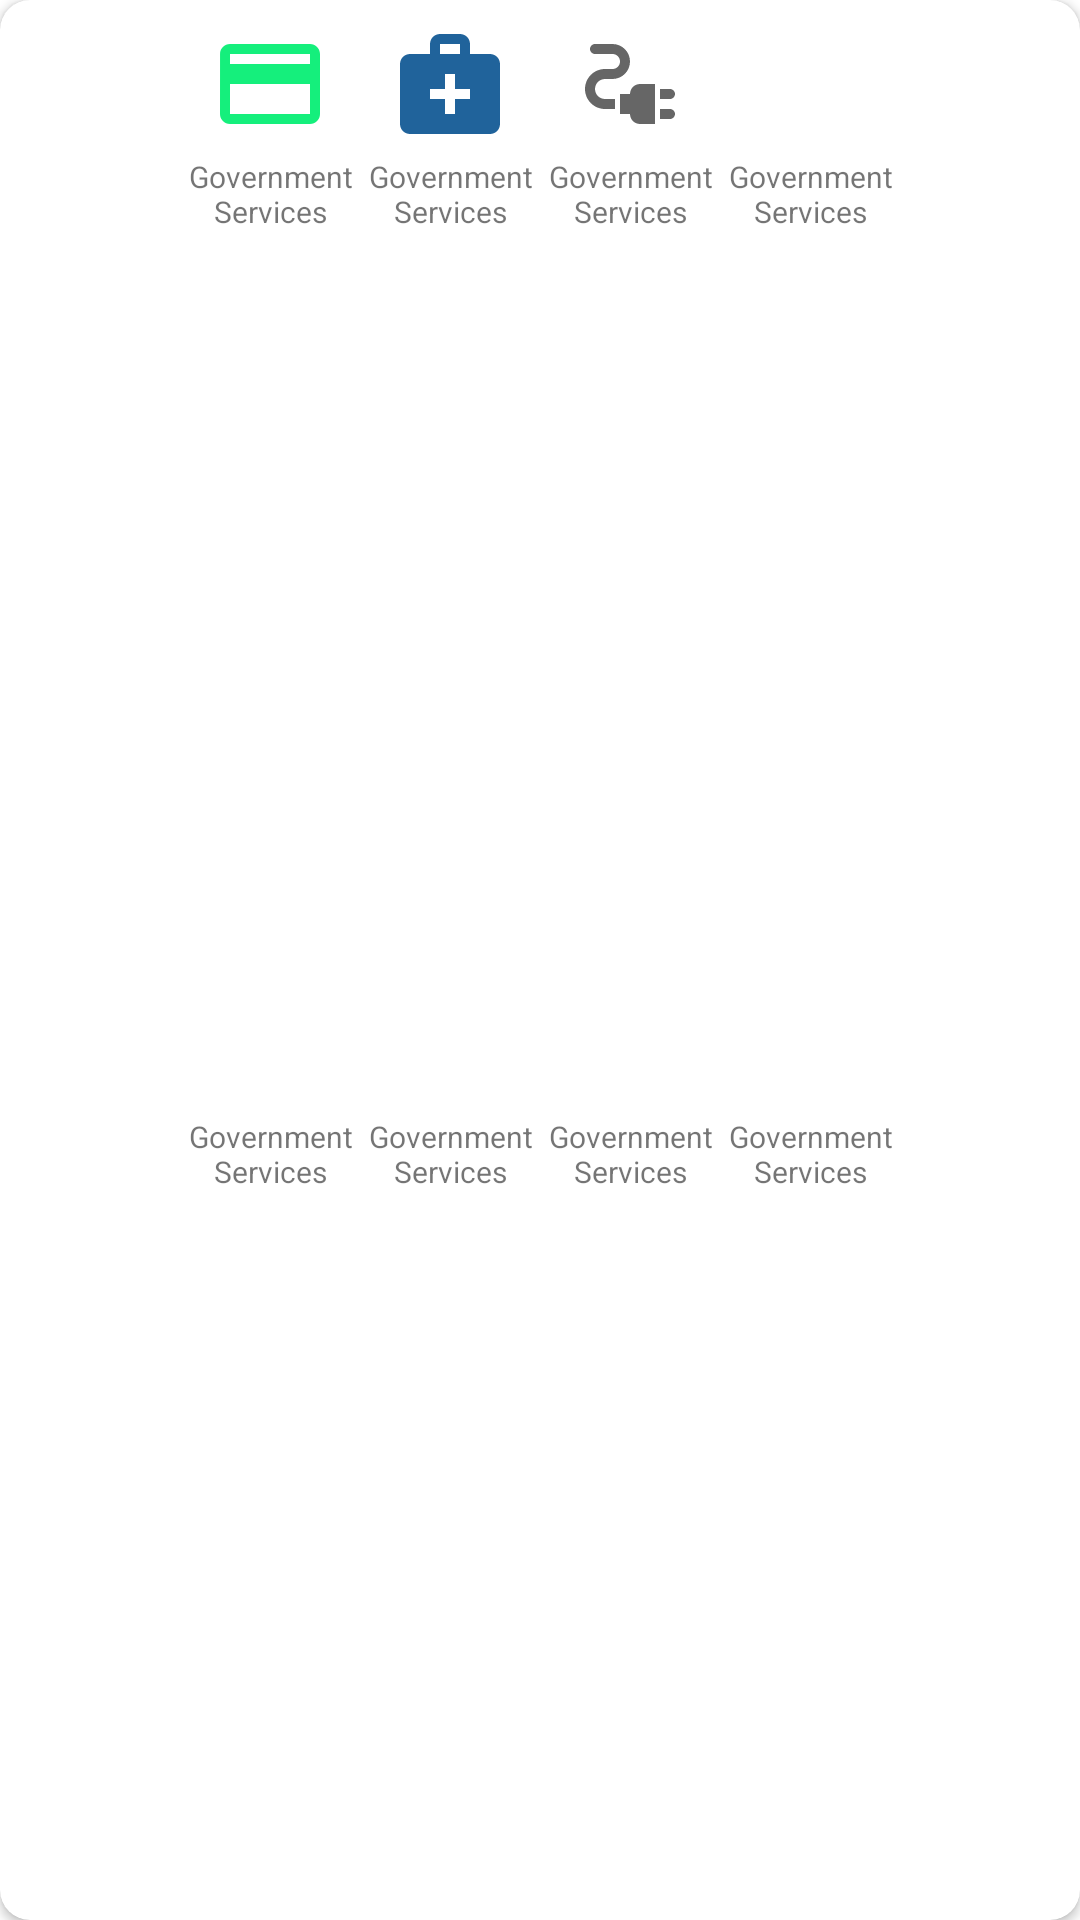

Screen size 1080px×1920px. Icon name, then its box in pixels as [x1,y1,x2,y2]:
electrical services: [585,44,675,124]
medical services: [400,34,500,134]
payment: [220,44,320,124]
